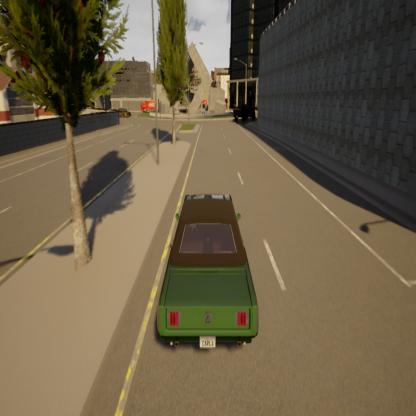Cars: (147, 178, 268, 367), (232, 95, 258, 123), (140, 99, 158, 115), (115, 105, 133, 120)
